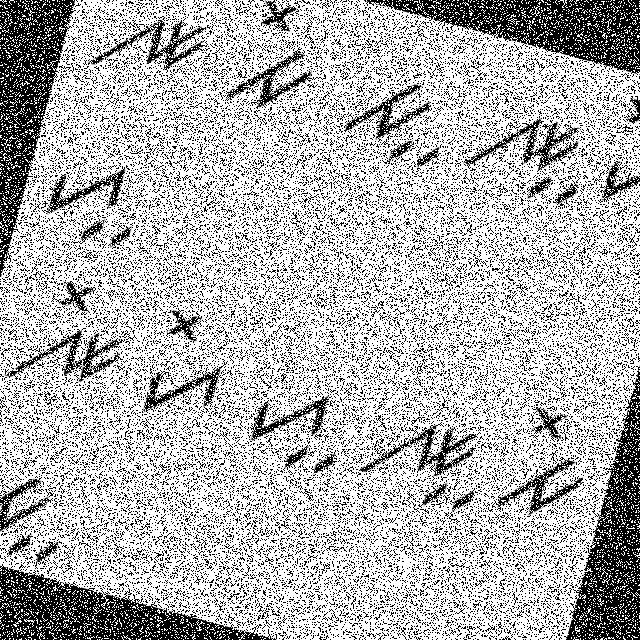hah: (30, 134, 156, 262), (235, 361, 357, 484)
ho: (134, 302, 240, 433), (588, 91, 639, 222)
mbah: (329, 54, 463, 175), (0, 446, 89, 577)
mbo: (490, 394, 605, 532), (213, 0, 334, 125)
ndah: (342, 392, 494, 522), (447, 91, 598, 217)
ndo: (0, 260, 143, 410), (85, 0, 224, 95)
